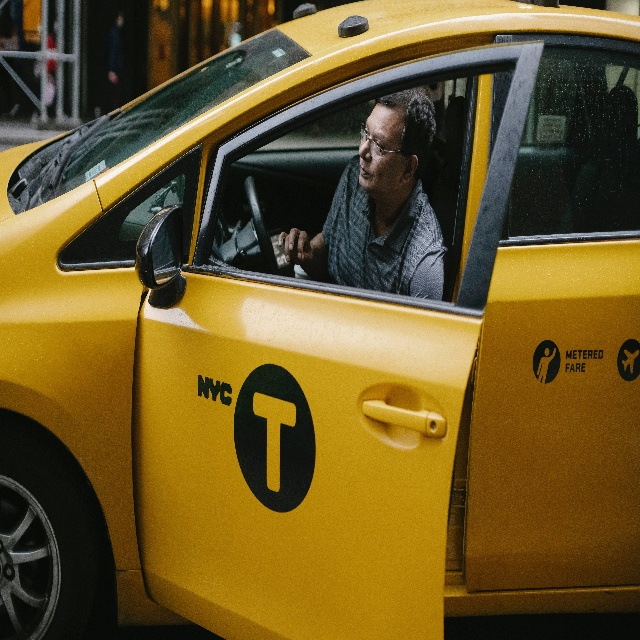Gafas: (359, 123, 420, 161)
Sin_guantes: (277, 227, 313, 266)
